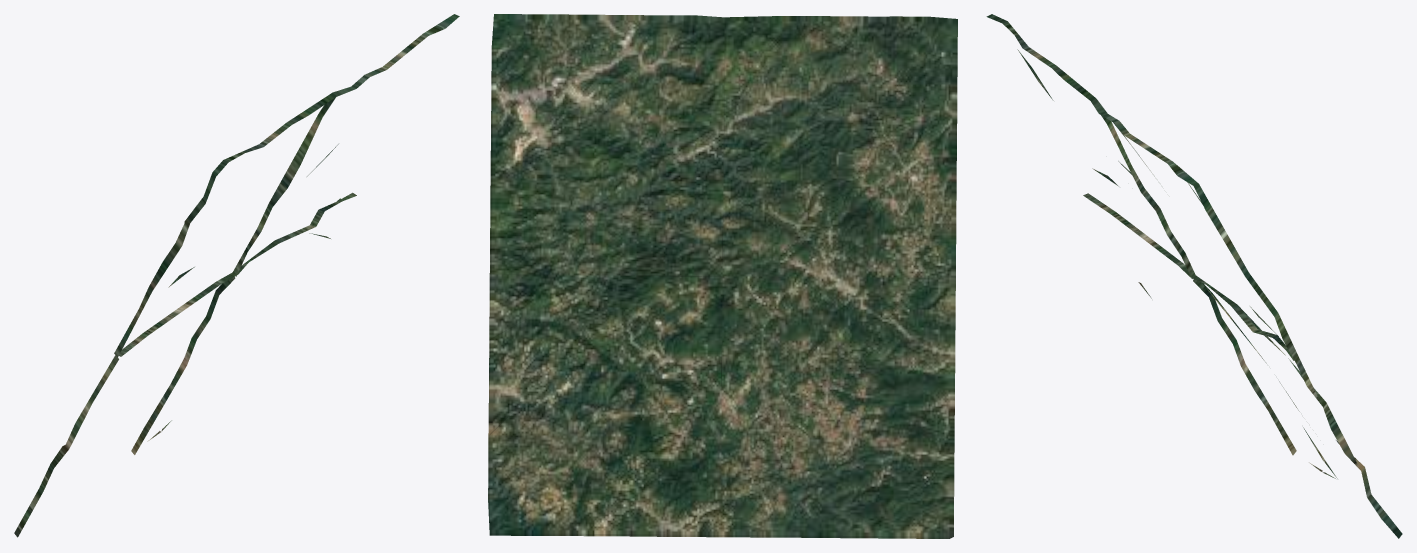
The picture shows the model from 3 angles, left to right: view 1: azimuth 30°, elevation 25°; view 2: azimuth 150°, elevation 25°; view 3: azimuth 270°, elevation 25°; orthographic projection. The views are drawn at different scales.
Size of the model in its own units: 39793 by 35574 by 32847.
Materials: 1 (1 with a texture image).
